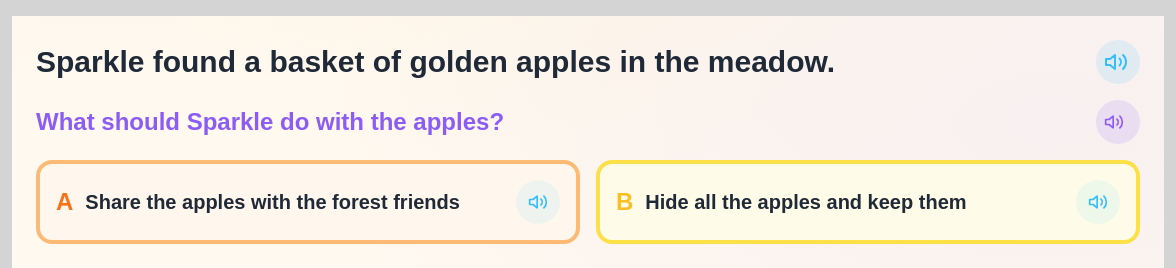
Test: ScenePlayer › Correct Answer (Requirement 8.2) › shows feedback with countdown after correct answer
The image size is (1176, 268).
(page scrolled)
Click the button with aria-label "Option A:".
click(308, 202)  # box [36,160,580,244]
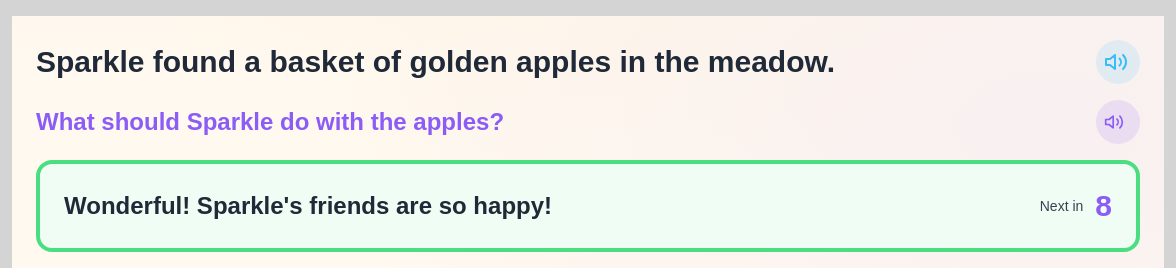
Expected: the text "Wonderful! Sparkle's friends are so happy!" is shown, [64,192,552,219]
